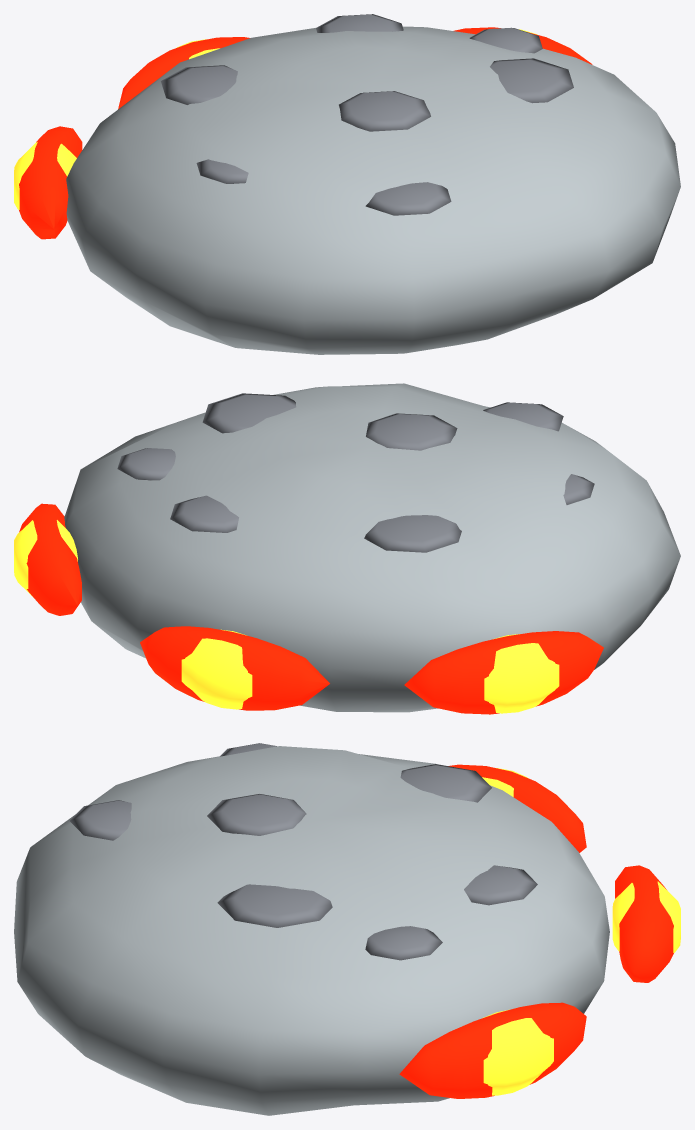
The model's file is newshk-1.glb.
The picture shows the model from 3 angles, top to bottom: view 1: azimuth 30°, elevation 25°; view 2: azimuth 150°, elevation 25°; view 3: azimuth 270°, elevation 25°; orthographic projection. The views are drawn at different scales.
Parts seen in each view (by area): view 1: newshk-1, newshk-1-glint-1, newshk-1-glint-3, newshk-1-glint-5; view 2: newshk-1, newshk-1-glint-1, newshk-1-glint-3, newshk-1-glint-5; view 3: newshk-1, newshk-1-glint-5, newshk-1-glint-3, newshk-1-glint-1.
Part boxes in pixels (left/top/right/bottom): newshk-1: left=66, top=14, right=680, bottom=354; newshk-1-glint-1: left=14, top=126, right=82, bottom=239; newshk-1-glint-3: left=118, top=37, right=249, bottom=109; newshk-1-glint-5: left=454, top=27, right=592, bottom=64; newshk-1: left=64, top=383, right=680, bottom=712; newshk-1-glint-1: left=404, top=631, right=603, bottom=714; newshk-1-glint-3: left=140, top=626, right=329, bottom=710; newshk-1-glint-5: left=14, top=503, right=81, bottom=615; newshk-1: left=14, top=743, right=609, bottom=1115; newshk-1-glint-5: left=399, top=1002, right=586, bottom=1098; newshk-1-glint-3: left=612, top=865, right=680, bottom=982; newshk-1-glint-1: left=448, top=764, right=586, bottom=852.
Bounding box in the file's own units: 1.63 × 0.609 × 1.58.
